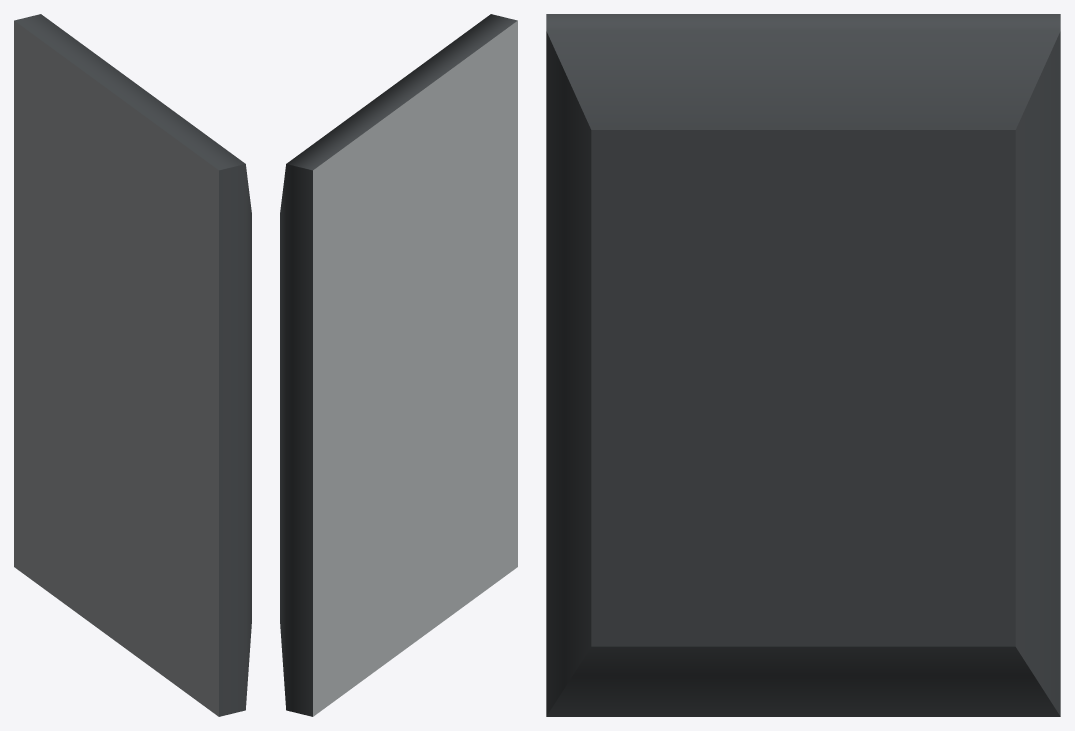
File: wall_mirror.fbx
3 views of the same model, side by side, from view 1: azimuth 30°, elevation 25°; view 2: azimuth 150°, elevation 25°; view 3: azimuth 270°, elevation 25° (orthographic). The views are drawn at different scales.
Visible parts, largest first — view 1: pCube7; view 2: pCube7; view 3: pCube7.
Part boxes in pixels (x1,y1,x2,y2): pCube7: (14, 14, 251, 716); pCube7: (280, 14, 517, 716); pCube7: (546, 14, 1060, 716).
Size of the model in its own units: 0.2044 by 2.1 by 1.43.
